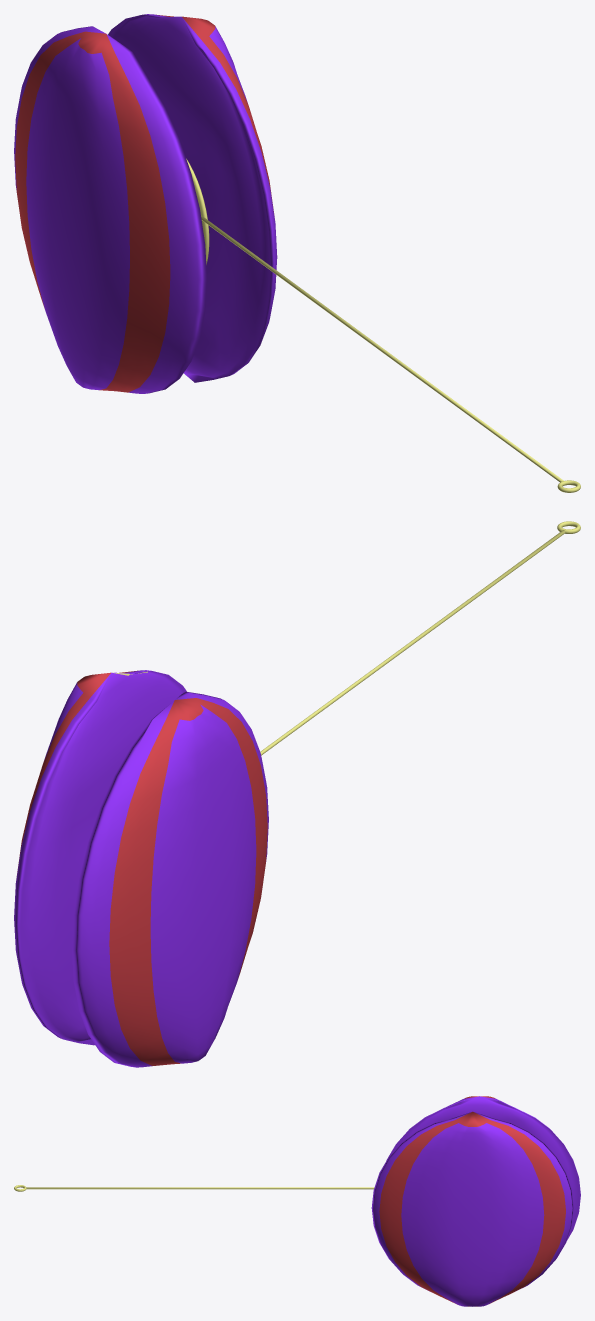
The model's file is Yoyo.fbx.
3 renders of one model, top to bottom at view 1: azimuth 30°, elevation 25°; view 2: azimuth 150°, elevation 25°; view 3: azimuth 270°, elevation 25°, orthographic. The views are drawn at different scales.
Parts seen in each view (by area): view 1: Sphere; view 2: Sphere; view 3: Sphere.
Part boxes in pixels (x1,y1,x2,y2): Sphere: [14, 14, 580, 492]; Sphere: [14, 521, 580, 1067]; Sphere: [14, 1096, 580, 1306].
Size of the model in its own units: 93.67 by 212 by 561.
